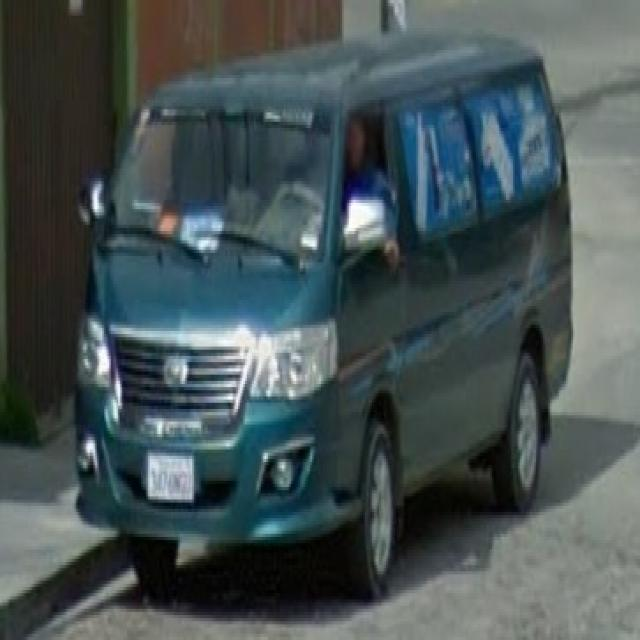cars: (78, 48, 574, 598)
